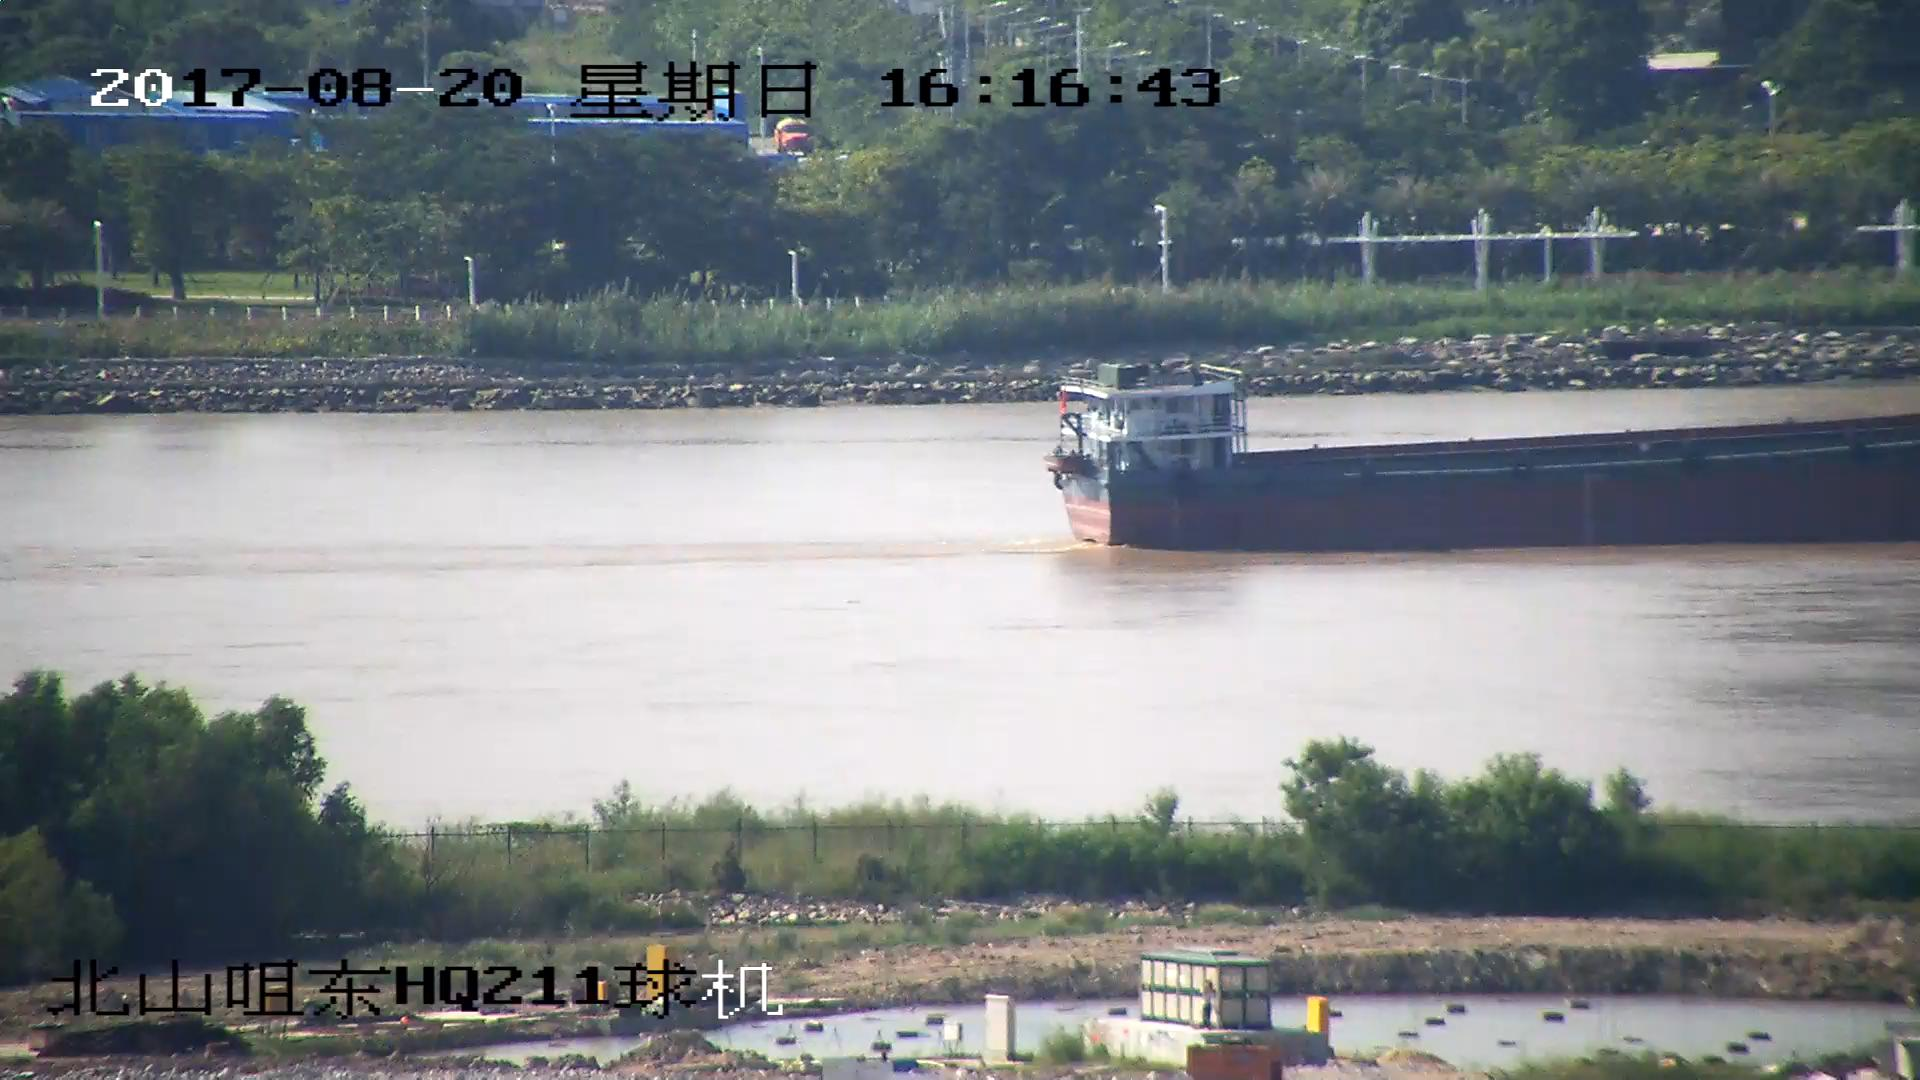general cargo ship: (1049, 350, 1920, 542)
